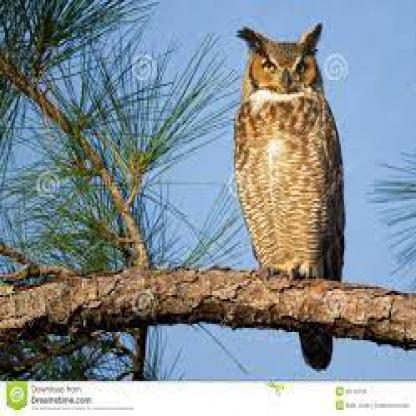owl: (195, 0, 414, 414)
